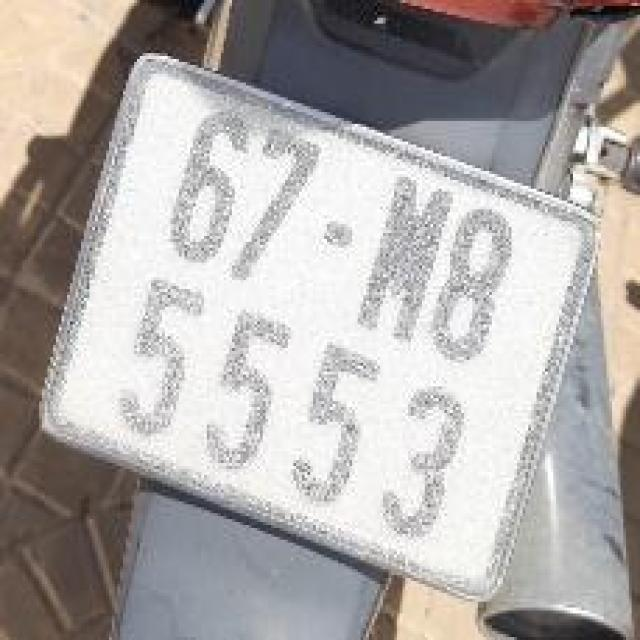3: (364, 371, 486, 551)
5: (273, 330, 402, 518), (102, 265, 220, 452), (187, 295, 304, 479)
6: (154, 101, 268, 275)
7: (220, 112, 339, 288)
8: (414, 194, 533, 380)
M: (344, 159, 472, 356)
